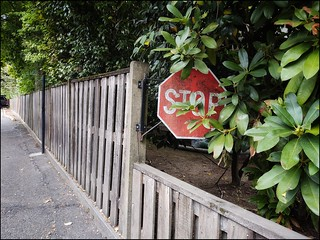StopSign: (155, 67, 226, 140)
